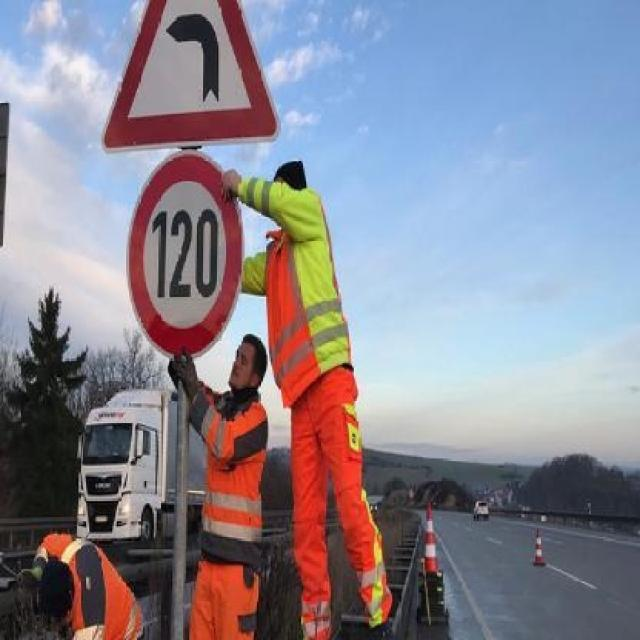forb_speed_over_120: (129, 154, 243, 357)
